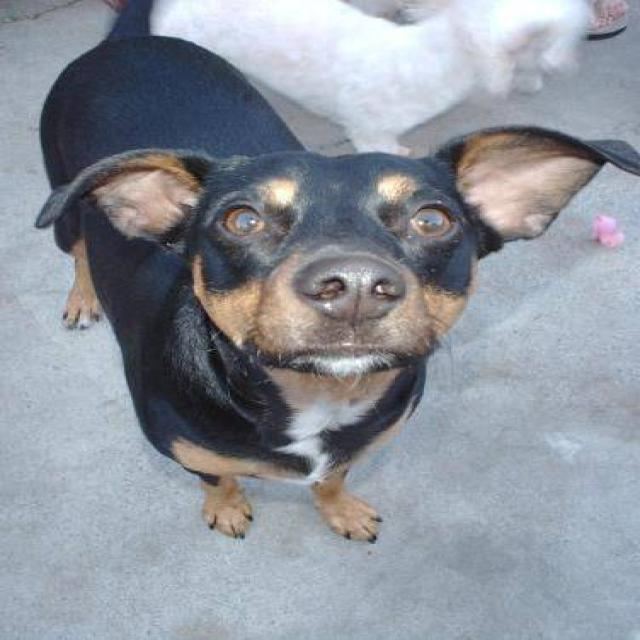dog: (32, 0, 638, 544)
